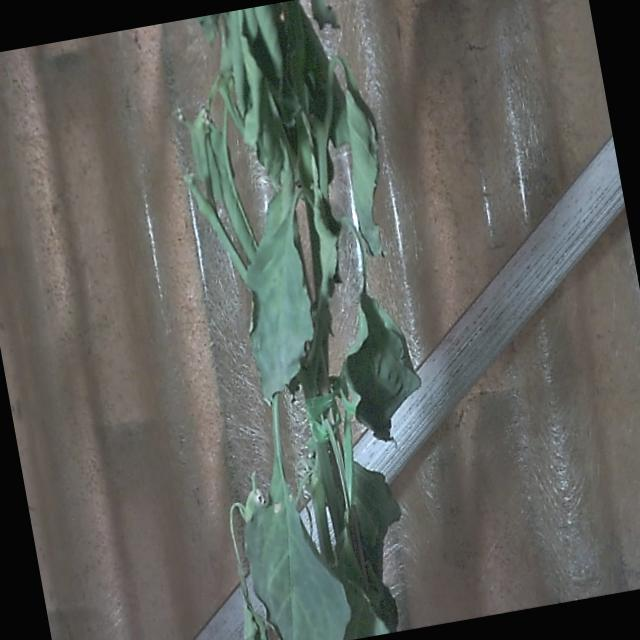Leaf: (222, 181, 334, 408), (235, 462, 354, 640), (330, 281, 428, 444), (230, 6, 302, 180), (333, 80, 400, 258)
